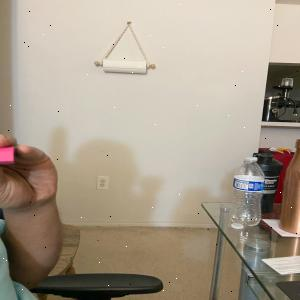Blume-E-Ciggirate: (0, 140, 20, 164)
